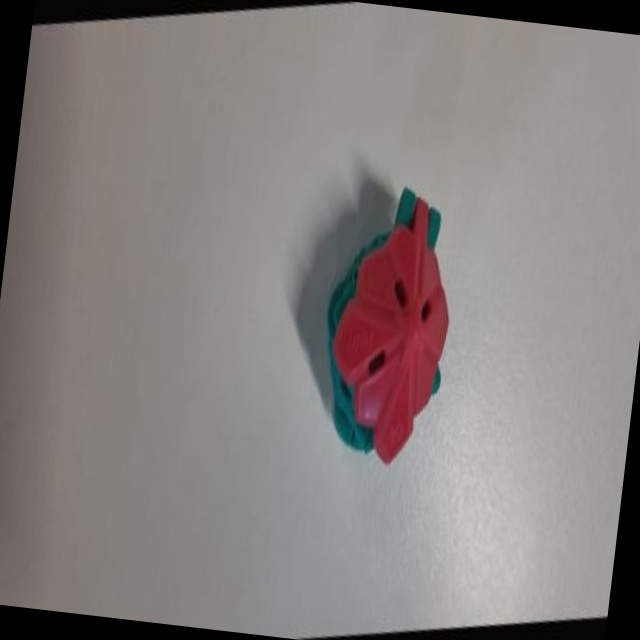House: (286, 157, 483, 531)
